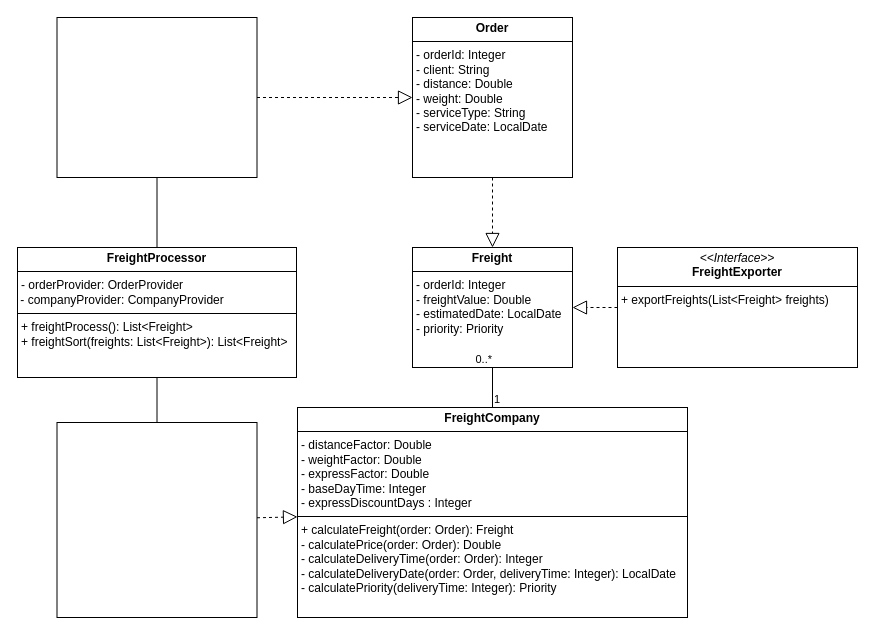
Image size: 875x635. Some labels were removed from this diagram. Each missing label, with the centre of its shape:
"<<Interface>> CompanyProvider +getCompany(): FreightCompany" goes at (x=156, y=520).
"<<Interface>> OrderProvider + getOrders() : List<Order> ;" goes at (x=156, y=97).
